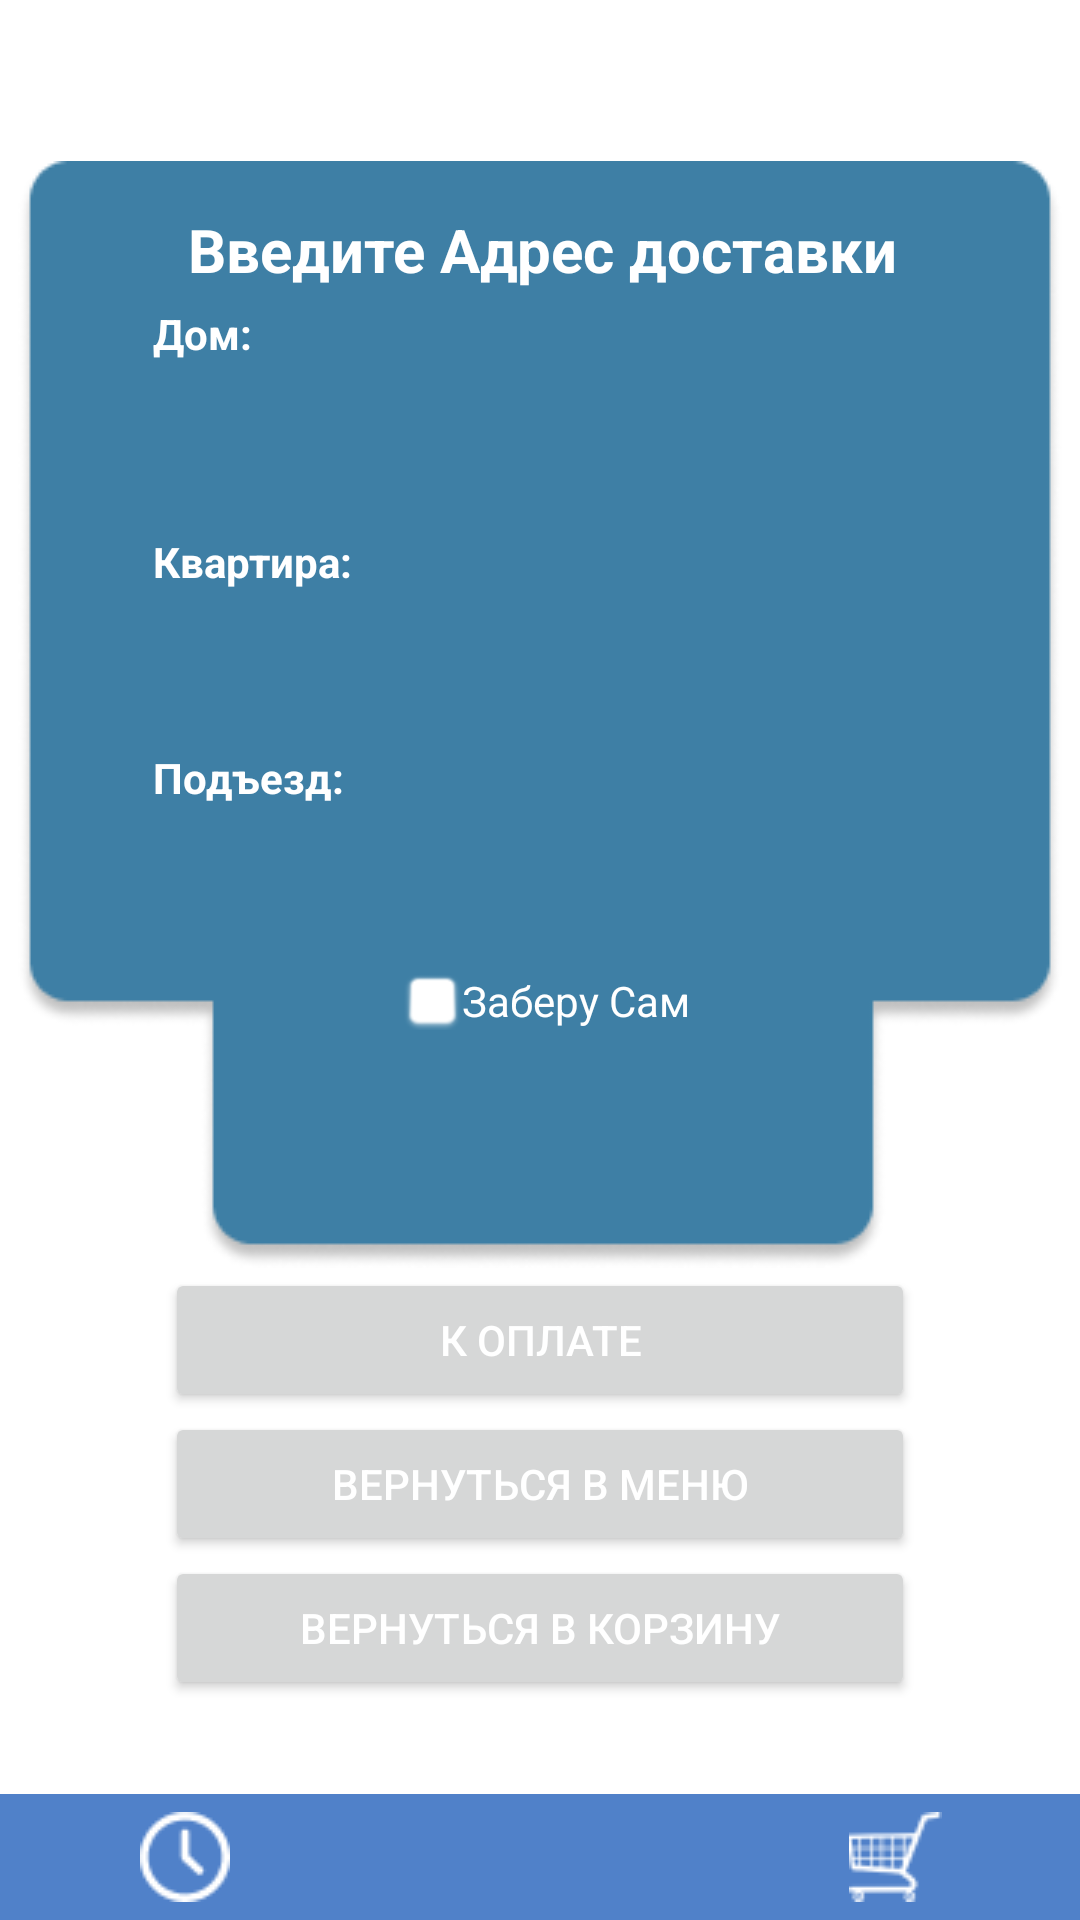

Named icons in this screenshot (1080w x 1920h) and their bounding boxes, (x1, y1, x2, y2):
cart: (849, 1812, 942, 1902)
history: (140, 1812, 230, 1902)
